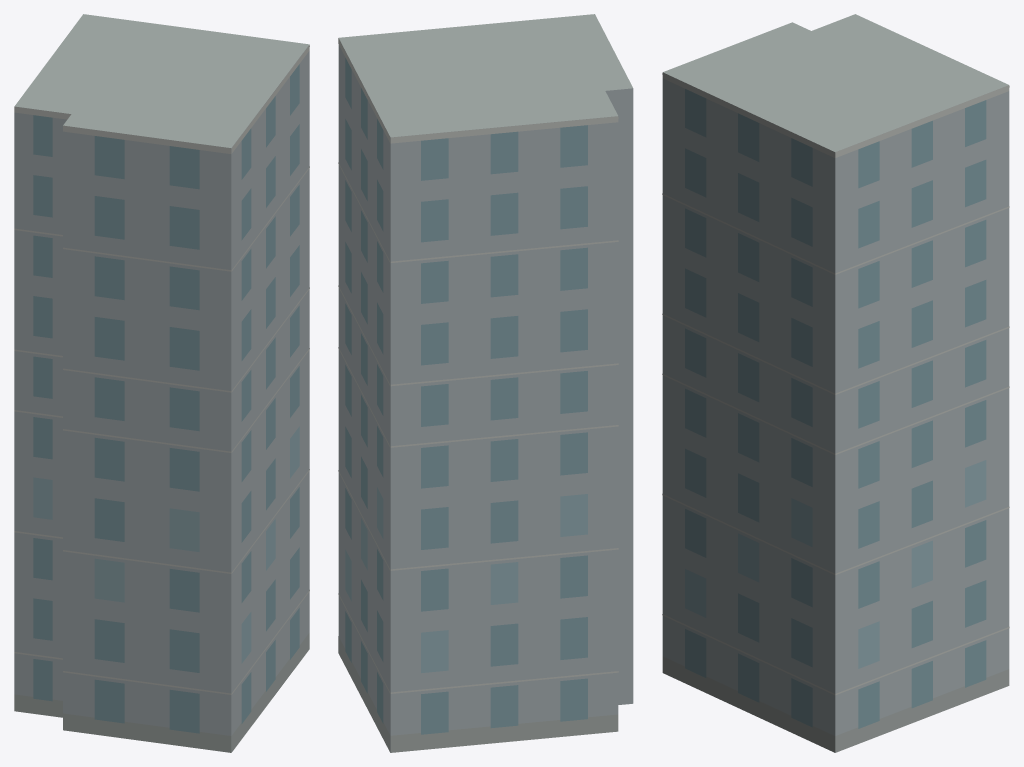
File: survey-upis-32671391.glb
The picture shows the model from 3 angles, left to right: view 1: azimuth 30°, elevation 25°; view 2: azimuth 150°, elevation 25°; view 3: azimuth 270°, elevation 25°; orthographic projection. The views are drawn at different scales.
Parts seen in each view (by area): view 1: survey-upis-32671391.tmp; view 2: survey-upis-32671391.tmp; view 3: survey-upis-32671391.tmp.
Part boxes in pixels (<box>): survey-upis-32671391.tmp: <box>14,14,309,752</box>; survey-upis-32671391.tmp: <box>338,14,633,752</box>; survey-upis-32671391.tmp: <box>662,14,1009,752</box>.
Bounding box in the file's own units: 12.06 × 24.4 × 12.78.
